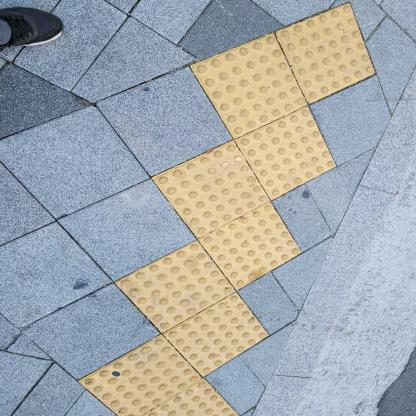podotacti: (74, 0, 384, 416)
